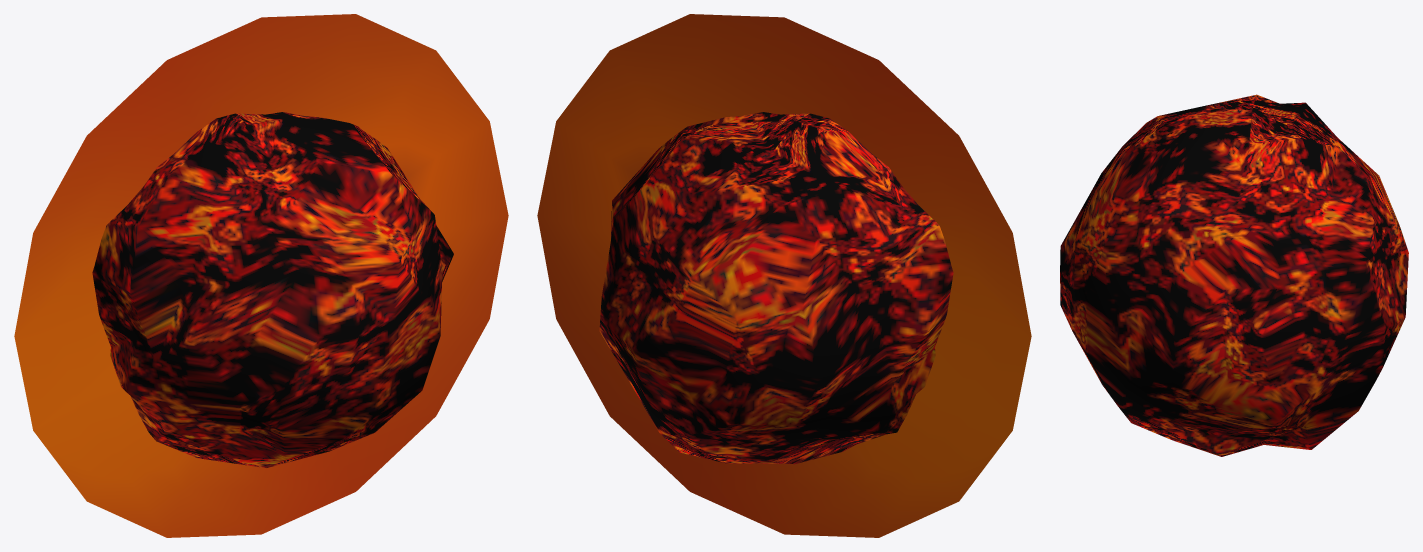
The model's file is WpnMetaridleyFireballS.obj.
3 views of the same model, side by side, from view 1: azimuth 30°, elevation 25°; view 2: azimuth 150°, elevation 25°; view 3: azimuth 270°, elevation 25° (orthographic). The views are drawn at different scales.
Parts seen in each view (by area): view 1: polygon1, polygon0; view 2: polygon1, polygon0; view 3: polygon0.
Part boxes in pixels (x1,y1,x2,y2): polygon1: [14, 14, 508, 537]; polygon0: [92, 112, 453, 467]; polygon1: [537, 14, 1031, 537]; polygon0: [599, 112, 953, 464]; polygon0: [1060, 94, 1408, 456].
Bounding box in the file's own units: 31.4 × 31.4 × 20.88.
Materials: 2 (2 with a texture image).
